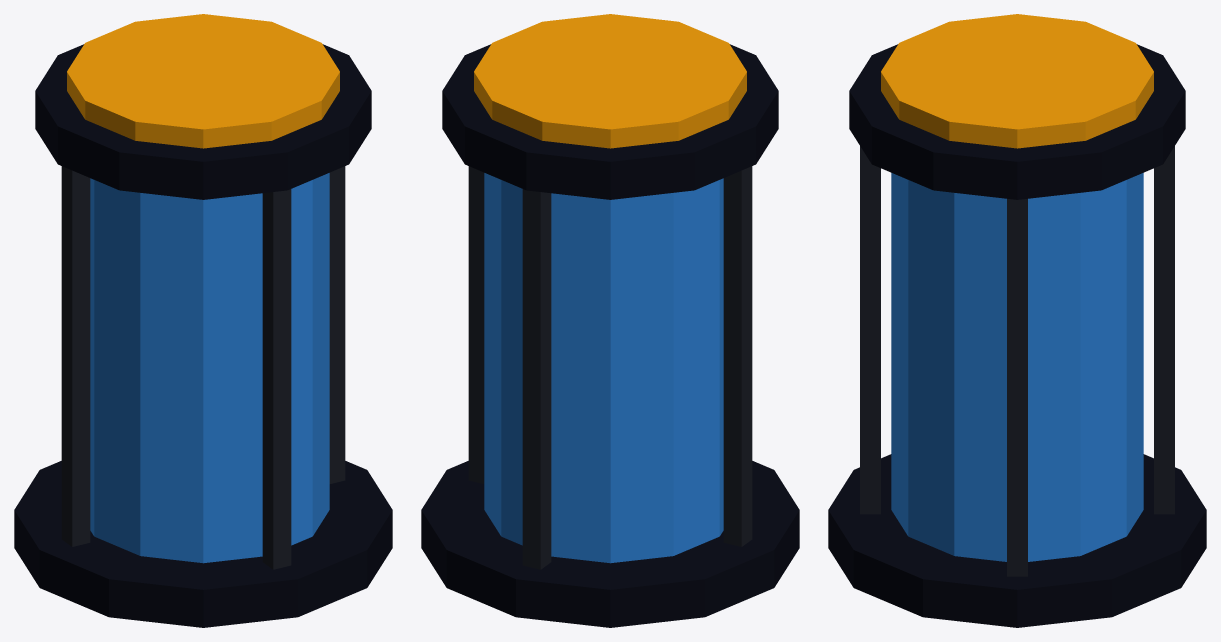
File: reactor_core.obj
The picture shows the model from 3 angles, left to right: view 1: azimuth 30°, elevation 25°; view 2: azimuth 150°, elevation 25°; view 3: azimuth 270°, elevation 25°; orthographic projection.
Parts seen in each view (by area): view 1: reactor_core; view 2: reactor_core; view 3: reactor_core.
Boxes of the visible parts, bbox=[...] form: reactor_core: bbox=[14, 14, 392, 627]; reactor_core: bbox=[421, 14, 799, 627]; reactor_core: bbox=[828, 14, 1206, 627].
Size of the model in its own units: 1.8 by 2.5 by 1.8.
